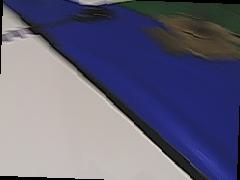CrossWalk: (73, 1, 111, 24), (2, 25, 41, 46)
